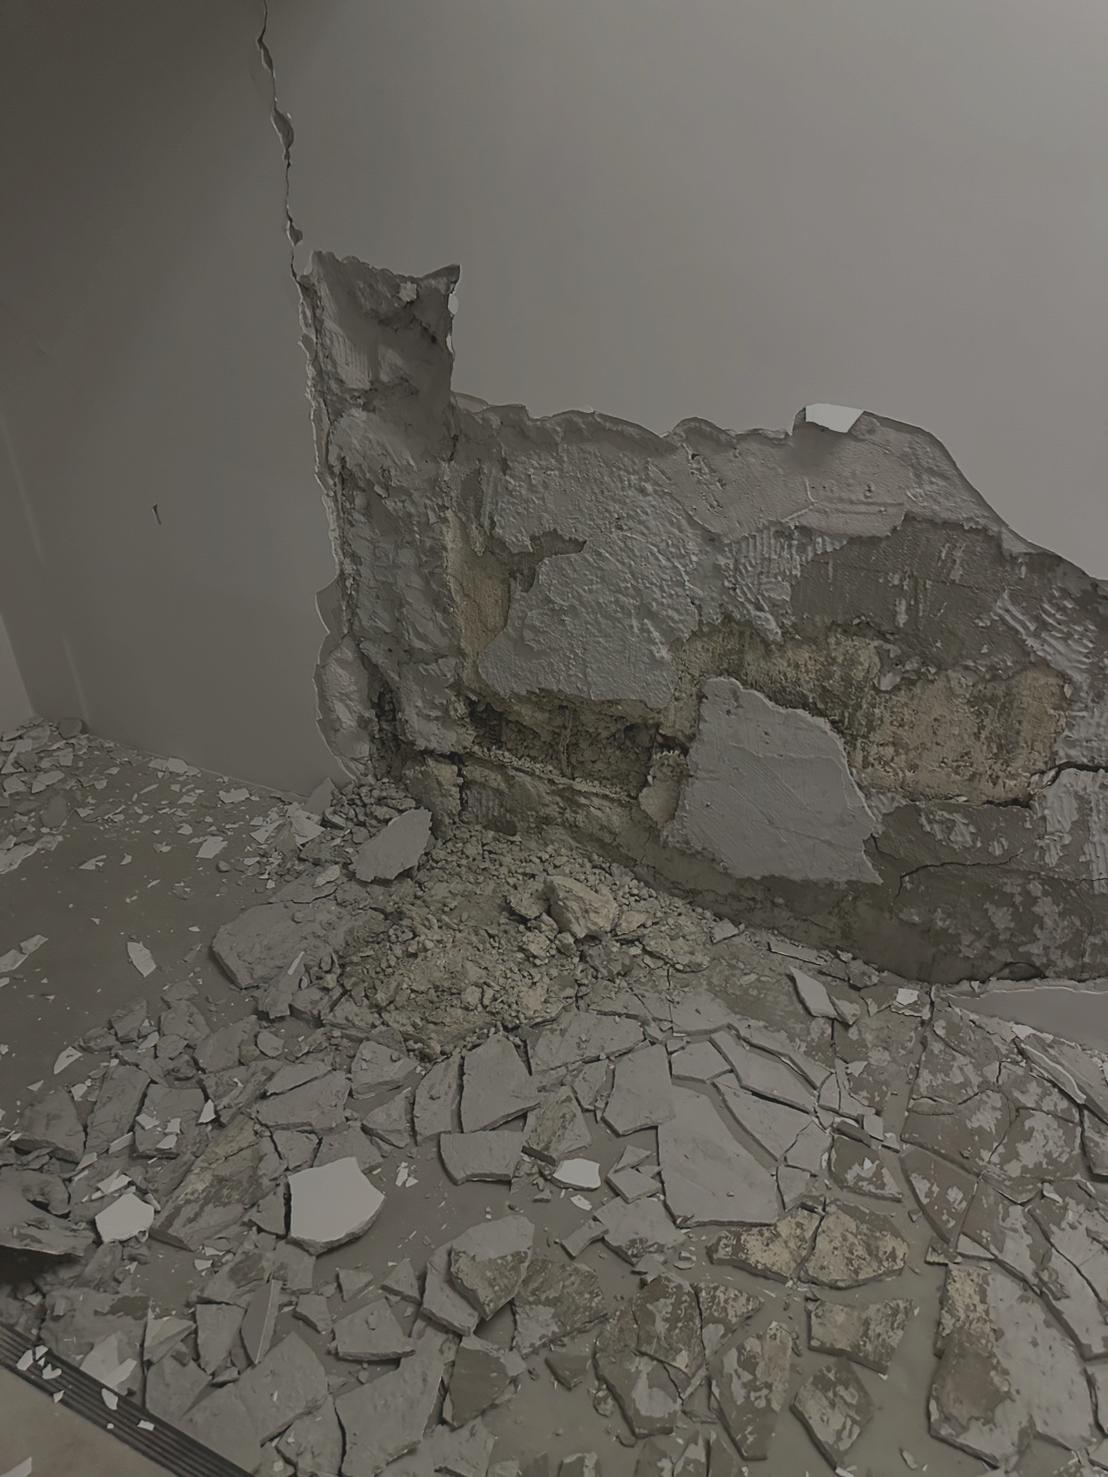High: (225, 6, 1108, 1014)
